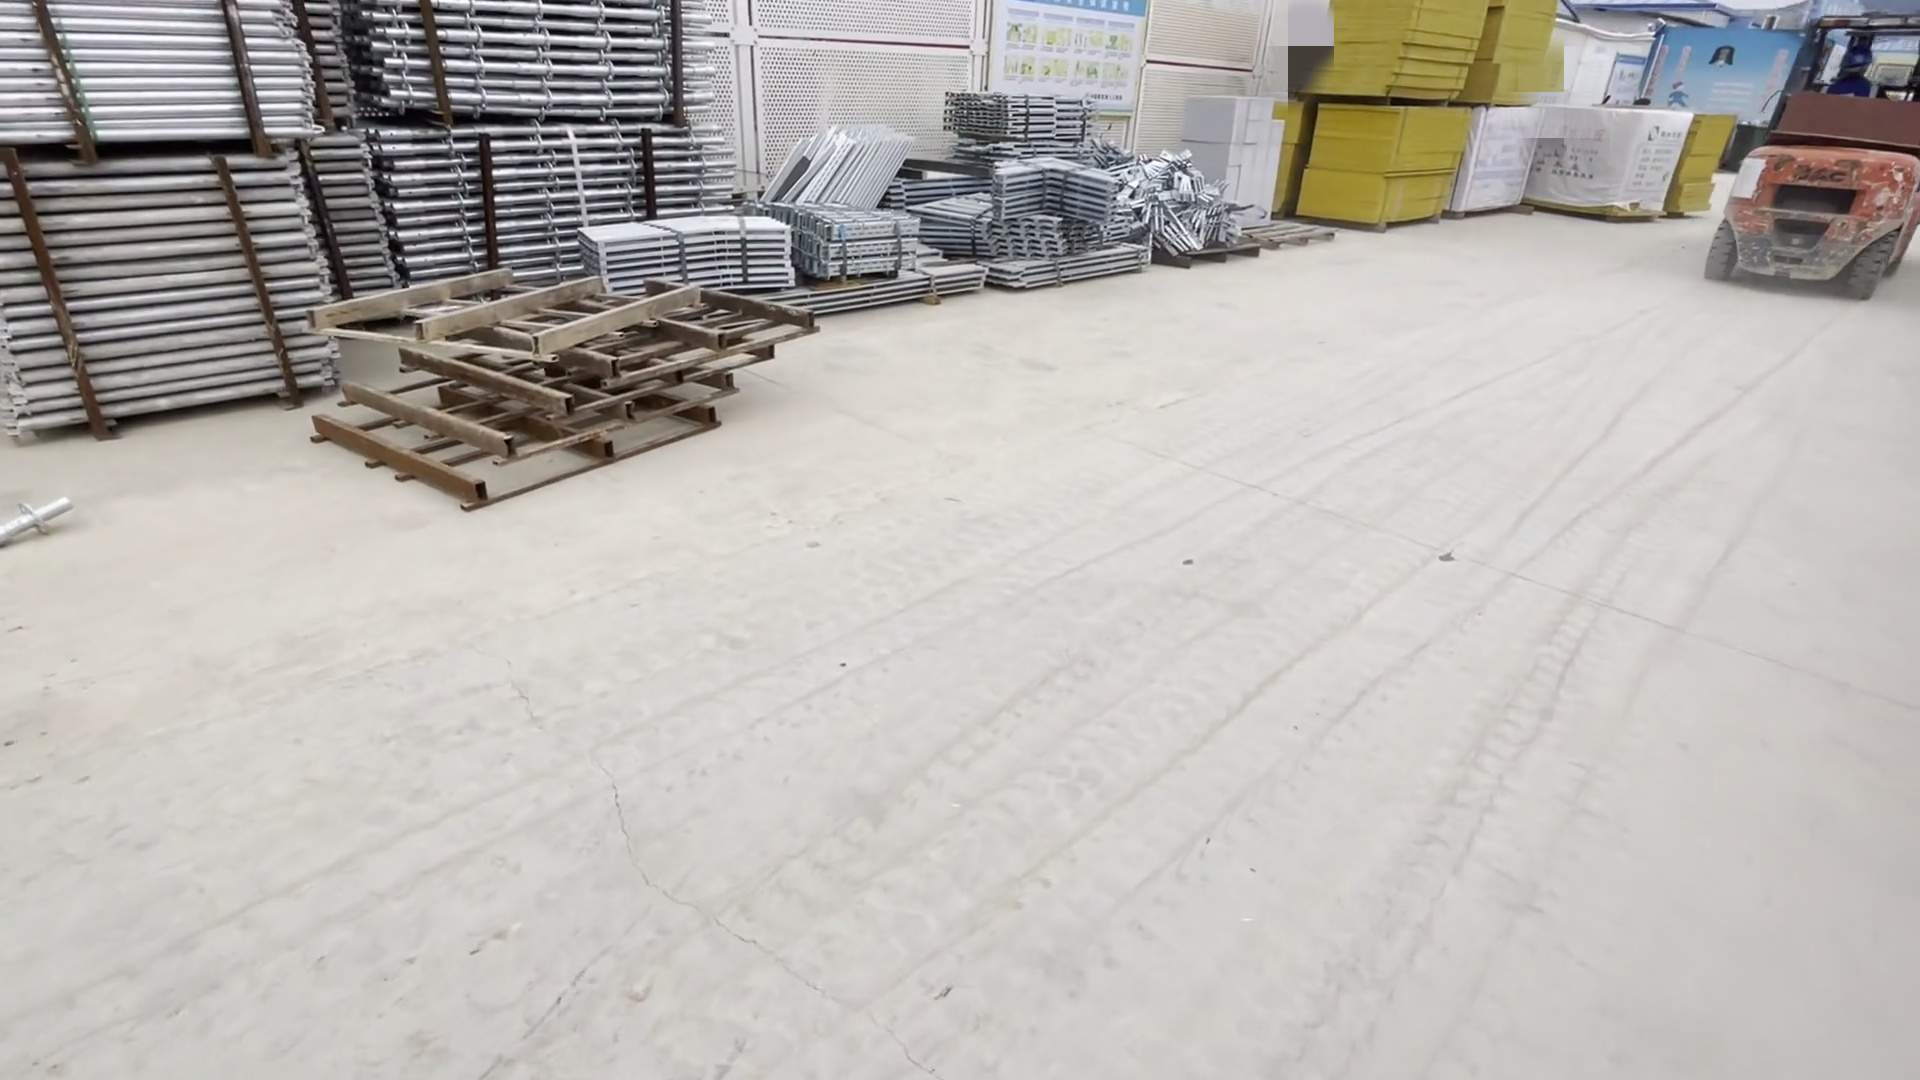board: (1336, 16, 1478, 233)
brick: (1195, 84, 1275, 227)
scaffold: (17, 15, 741, 415), (756, 92, 1286, 328)
